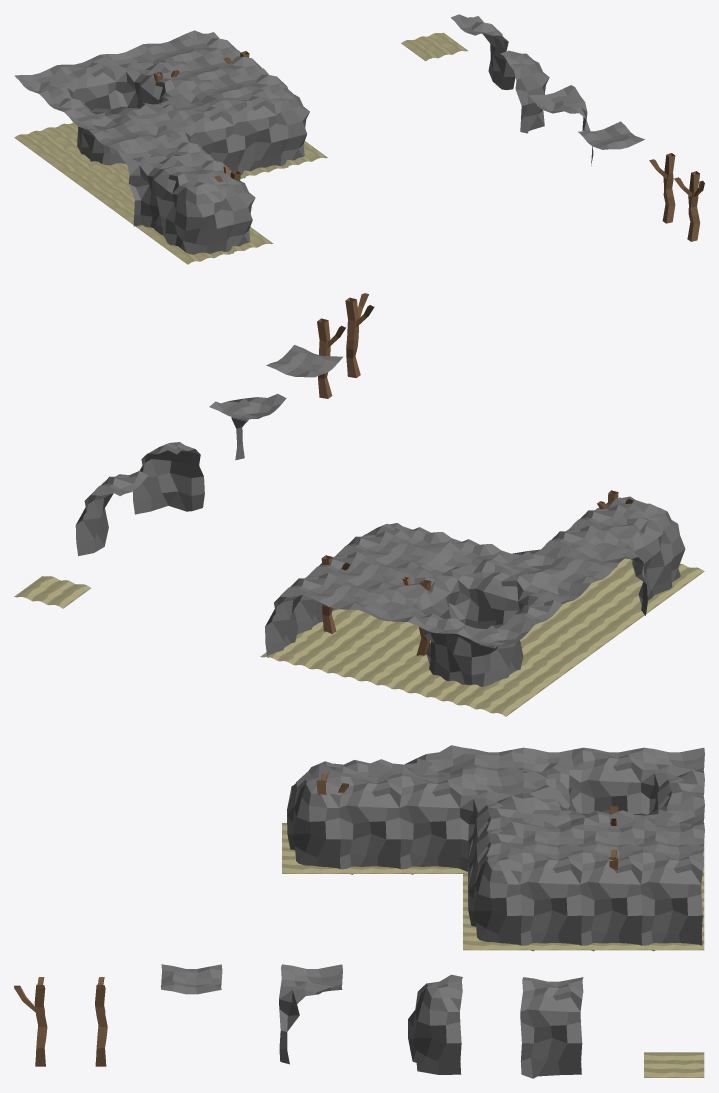
The model's file is Modulair asset pack 1.fbx.
3 renders of one model, top to bottom at view 1: azimuth 30°, elevation 25°; view 2: azimuth 150°, elevation 25°; view 3: azimuth 270°, elevation 25°, orthographic. The views are drawn at different scales.
Parts seen in each view (by area): view 1: Rock Corner.004, Rock Wall.014, Rock Wall.013, Rock Wall.008, Rock Wall.012, Rock Corner.001, Rock Corner.002, Rock Corner.003, Rock Inner Corner.007, Rock Inner Corner.004, Rock Wall.001, Rock Wall.009 (+27 smaller); view 2: Rock Corner.002, Rock Wall.011, Rock Wall.012, Rock Wall.008, Rock Wall.001, Rock Wall.005, Rock Inner Corner.003, Rock Wall.010, Rock Wall.009, Rock Inner Corner.007, Rock Inner Corner.006, Rock Inner Corner.002 (+30 smaller); view 3: Rock Wall.001, Rock Wall.005, Rock Wall.006, Rock Wall.003, Rock Wall.007, Rock Wall.004, Rock Corner.002, Rock Corner.001, Rock Corner.003, Rock Wall.010, Rock Inner Corner.006, Rock Inner Corner.001 (+22 smaller).
Boxes of the visible parts, x1,y1,x2,y2 form: Rock Corner.004: [165, 174, 227, 254]; Rock Wall.014: [218, 88, 281, 178]; Rock Wall.013: [174, 98, 238, 171]; Rock Wall.008: [140, 156, 204, 241]; Rock Wall.012: [57, 55, 121, 113]; Rock Corner.001: [260, 85, 309, 167]; Rock Corner.002: [500, 50, 549, 133]; Rock Corner.003: [206, 171, 255, 253]; Rock Inner Corner.007: [114, 138, 180, 226]; Rock Inner Corner.004: [100, 44, 166, 111]; Rock Wall.001: [450, 14, 515, 89]; Rock Wall.009: [128, 62, 192, 108]; Rock Corner.002: [132, 442, 204, 514]; Rock Wall.011: [465, 559, 540, 627]; Rock Wall.012: [408, 613, 484, 686]; Rock Wall.008: [599, 509, 671, 604]; Rock Wall.001: [75, 471, 147, 556]; Rock Wall.005: [265, 572, 337, 657]; Rock Inner Corner.003: [416, 547, 491, 624]; Rock Wall.010: [490, 600, 562, 683]; Rock Wall.009: [387, 568, 459, 663]; Rock Inner Corner.007: [571, 530, 647, 615]; Rock Inner Corner.006: [209, 393, 286, 460]; Rock Inner Corner.002: [457, 620, 534, 686]; Rock Wall.001: [520, 977, 583, 1078]; Rock Wall.005: [641, 849, 703, 951]; Rock Wall.006: [399, 773, 462, 874]; Rock Wall.003: [520, 849, 583, 951]; Rock Wall.007: [339, 773, 402, 874]; Rock Wall.004: [580, 849, 643, 951]; Rock Corner.002: [408, 974, 462, 1074]; Rock Corner.001: [468, 847, 522, 945]; Rock Corner.003: [287, 770, 342, 868]; Rock Wall.010: [580, 747, 643, 815]; Rock Inner Corner.006: [279, 964, 342, 1064]; Rock Inner Corner.001: [460, 773, 523, 871].
Bounding box in the file's own units: 20.1 × 3.06 × 22.91.
